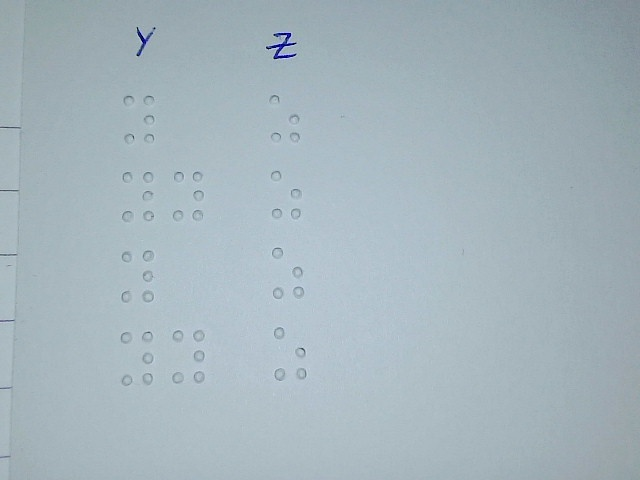Y: (171, 328, 206, 384), (120, 248, 155, 304), (122, 92, 156, 145), (171, 169, 205, 222)
Z: (273, 325, 307, 380), (271, 245, 305, 299), (268, 92, 301, 144), (269, 168, 302, 220)
